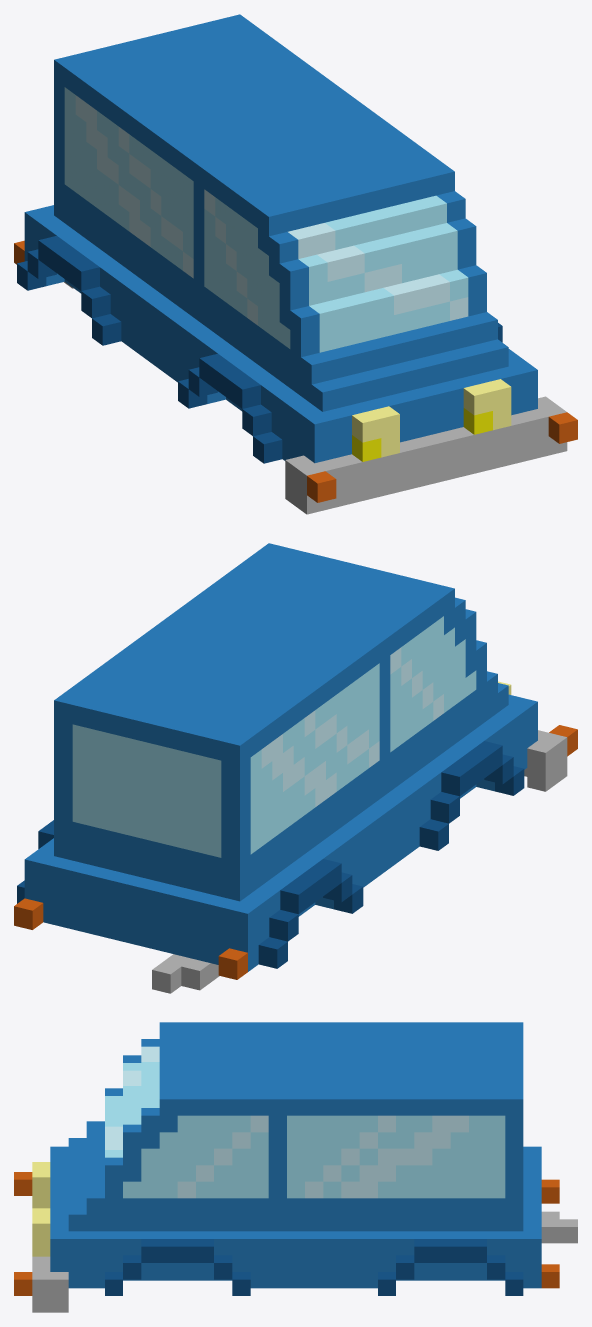
The model's file is Streetcar-4-Frame.obj.
The picture shows the model from 3 angles, top to bottom: view 1: azimuth 30°, elevation 25°; view 2: azimuth 150°, elevation 25°; view 3: azimuth 270°, elevation 25°; orthographic projection. The views are drawn at different scales.
Parts seen in each view (by area): view 1: Frame; view 2: Frame; view 3: Frame.
Part boxes in pixels (x1,y1,x2,y2): Frame: (14, 14, 577, 514); Frame: (14, 543, 577, 993); Frame: (14, 1022, 577, 1312).
Size of the model in its own units: 1.4 by 1.2 by 3.1.
Materials: 1 (1 with a texture image).
